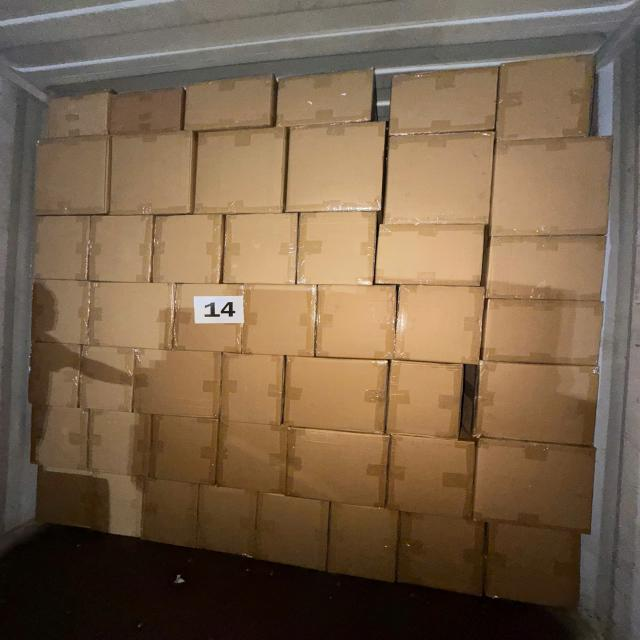Carton: (493, 133, 613, 234), (477, 432, 599, 526), (476, 358, 604, 444), (387, 130, 495, 224), (502, 55, 599, 146), (284, 122, 382, 212), (488, 522, 584, 613), (286, 358, 391, 438), (284, 425, 386, 507), (490, 235, 610, 304), (488, 294, 608, 363), (192, 130, 284, 218), (391, 69, 498, 140), (396, 515, 484, 601), (387, 436, 476, 521), (377, 221, 488, 285), (397, 283, 484, 364), (109, 132, 192, 215), (257, 491, 330, 577), (136, 348, 225, 418), (318, 282, 398, 359), (300, 211, 380, 287), (90, 281, 176, 351), (387, 358, 462, 438), (327, 502, 398, 586), (34, 135, 108, 215), (279, 68, 377, 124), (224, 211, 299, 284), (215, 420, 287, 495), (246, 282, 318, 356), (155, 213, 228, 285), (173, 285, 243, 357), (186, 73, 272, 130), (153, 412, 220, 485), (218, 353, 283, 427), (196, 482, 256, 561), (90, 214, 156, 284), (90, 410, 154, 479), (33, 462, 95, 532), (89, 468, 148, 541), (145, 476, 201, 550), (41, 87, 115, 140), (108, 85, 183, 137), (31, 406, 90, 472), (32, 281, 90, 347), (81, 344, 137, 411), (34, 213, 90, 279), (30, 340, 83, 405)
